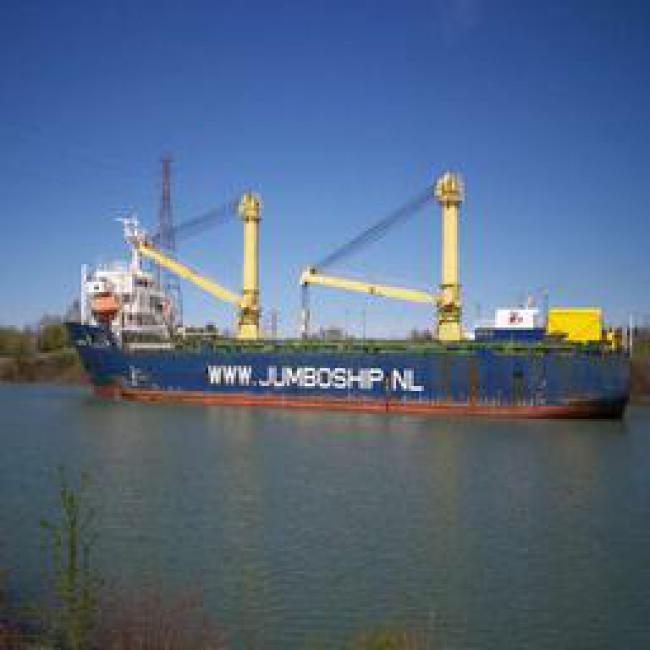Ship: (67, 229, 634, 432)
